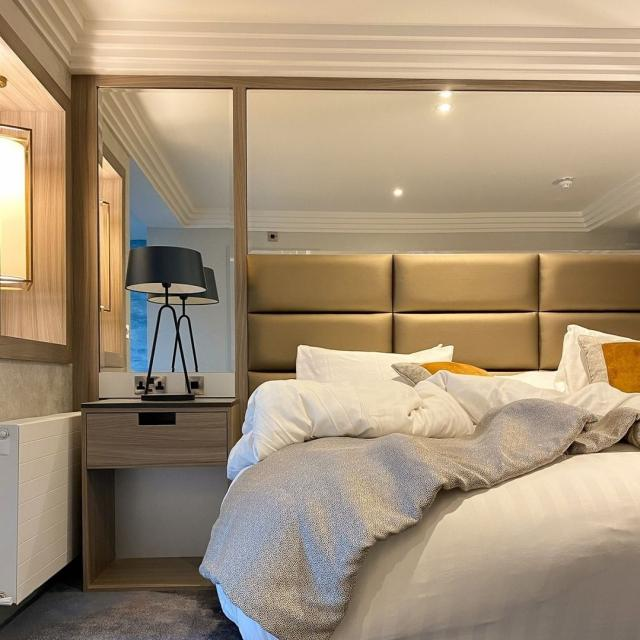bed: (205, 319, 640, 640)
